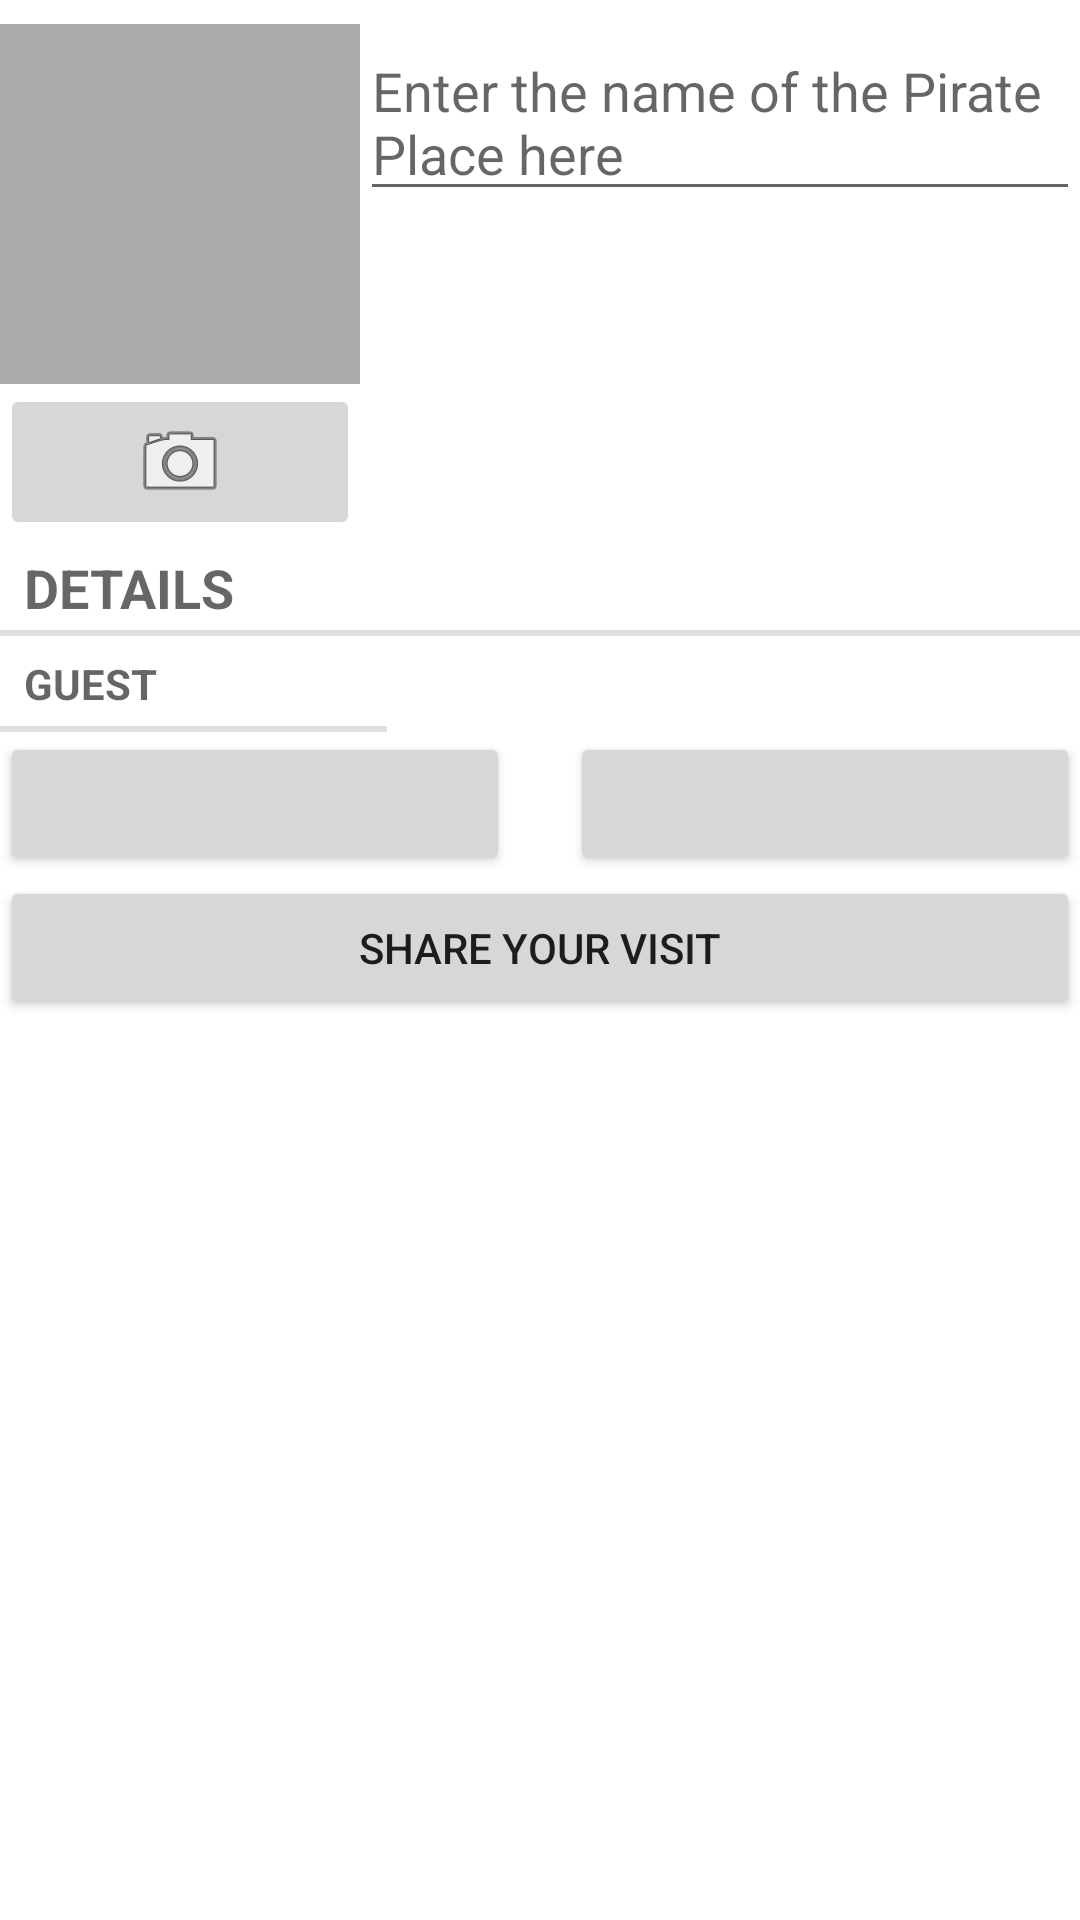

Icon click points for this 1080 x 1920 phone screenshot, format [x,y]:
Take photo of place: [180,462]
